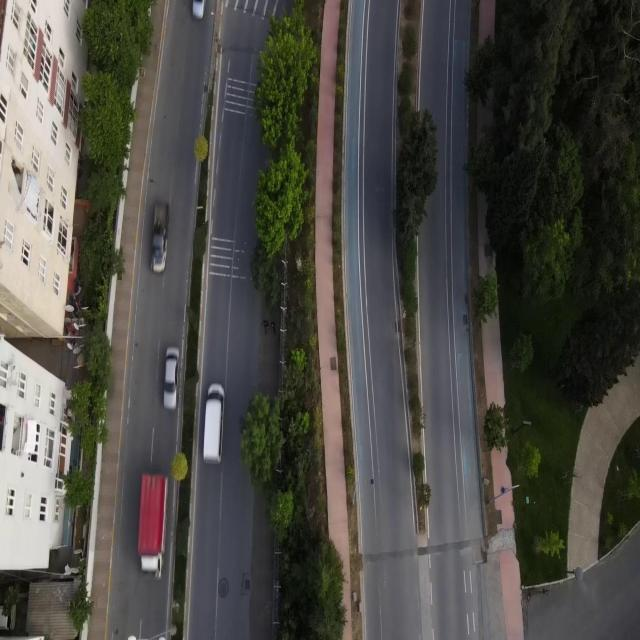p3rson: (262, 318, 269, 336), (270, 319, 276, 336)
